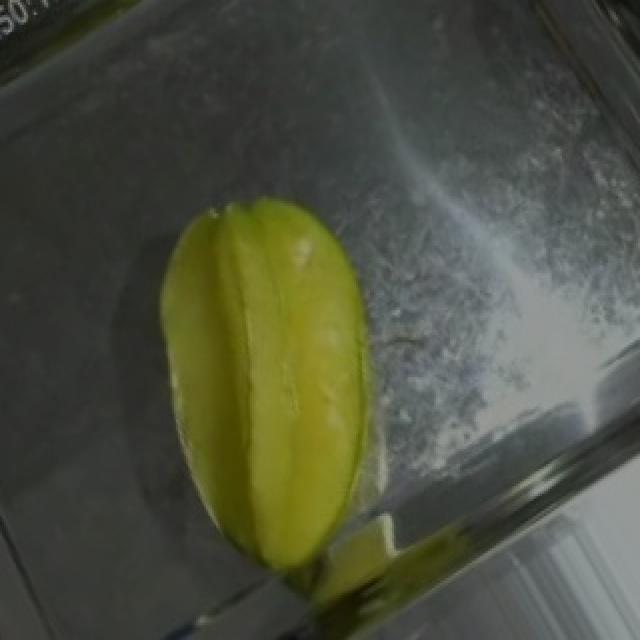fruit: (130, 166, 458, 583)
